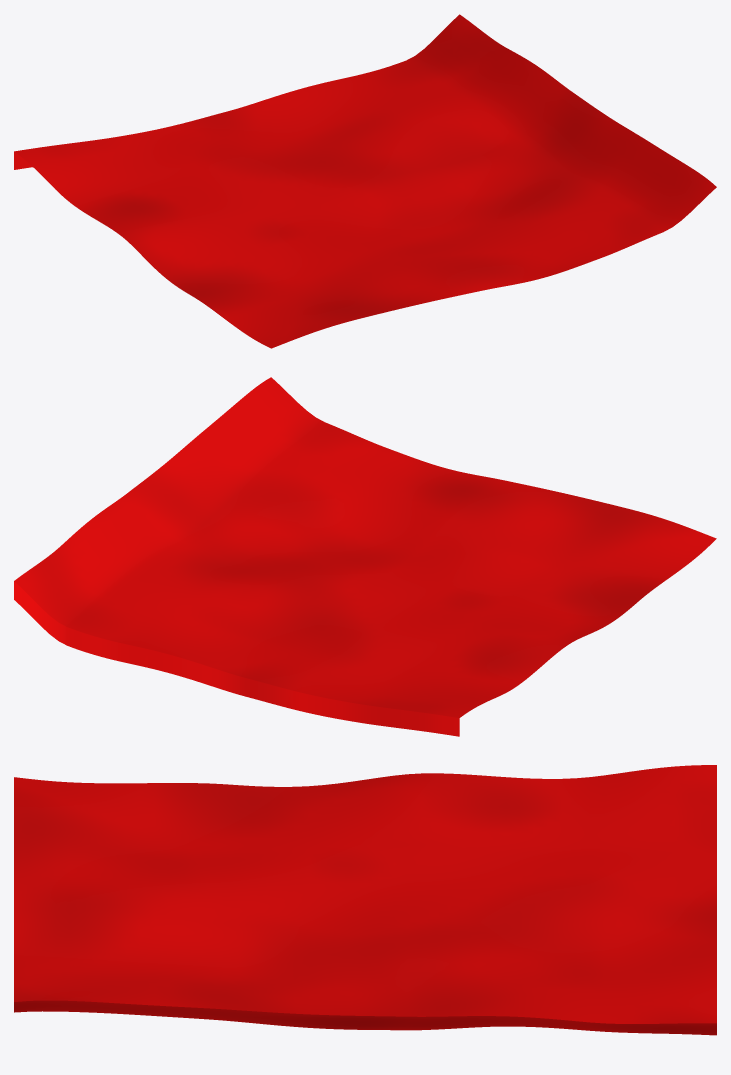
The model's file is terrain_1_3.glb.
3 renders of one model, top to bottom at view 1: azimuth 30°, elevation 25°; view 2: azimuth 150°, elevation 25°; view 3: azimuth 270°, elevation 25°, orthographic. The views are drawn at different scales.
Parts seen in each view (by area): view 1: terrain_1_3.0; view 2: terrain_1_3.0, terrain_1_3.1; view 3: terrain_1_3.0.
Part boxes in pixels (x1,y1,x2,y2): terrain_1_3.0: (14,14,716,348); terrain_1_3.0: (14,377,716,717); terrain_1_3.1: (14,581,459,736); terrain_1_3.0: (14,765,716,1035).
Bounding box in the file's own units: 50 × 8.25 × 50.
